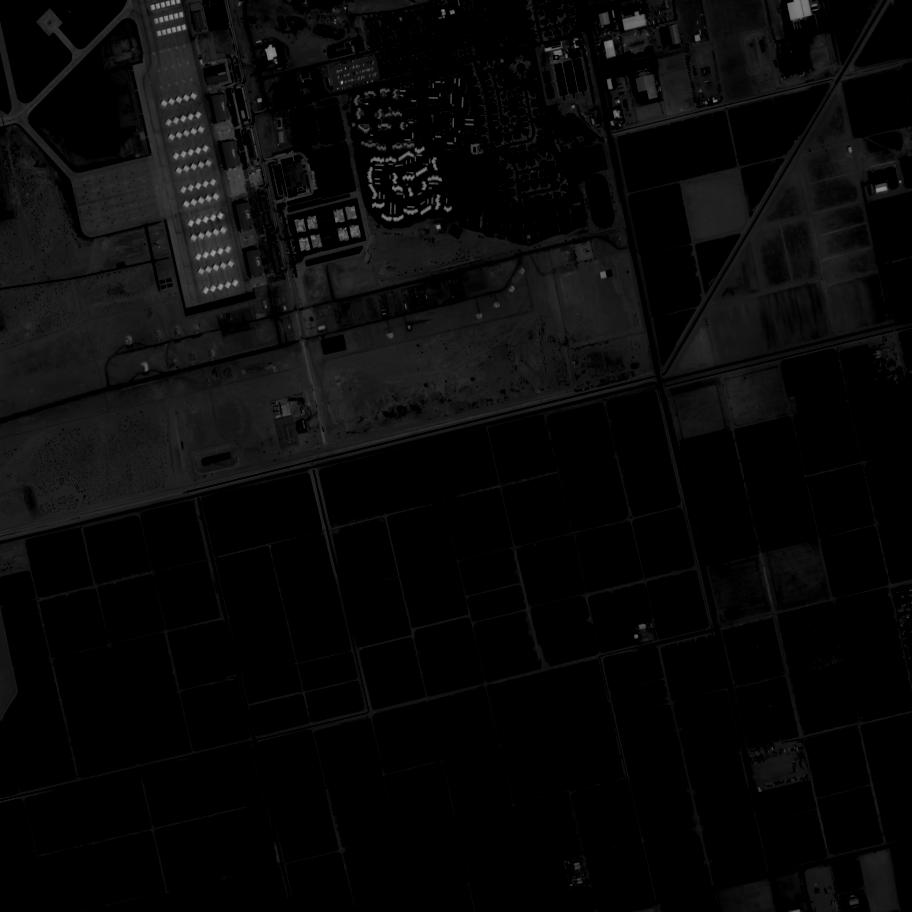storage-tank: (553, 56, 559, 61), (301, 0, 305, 6)
